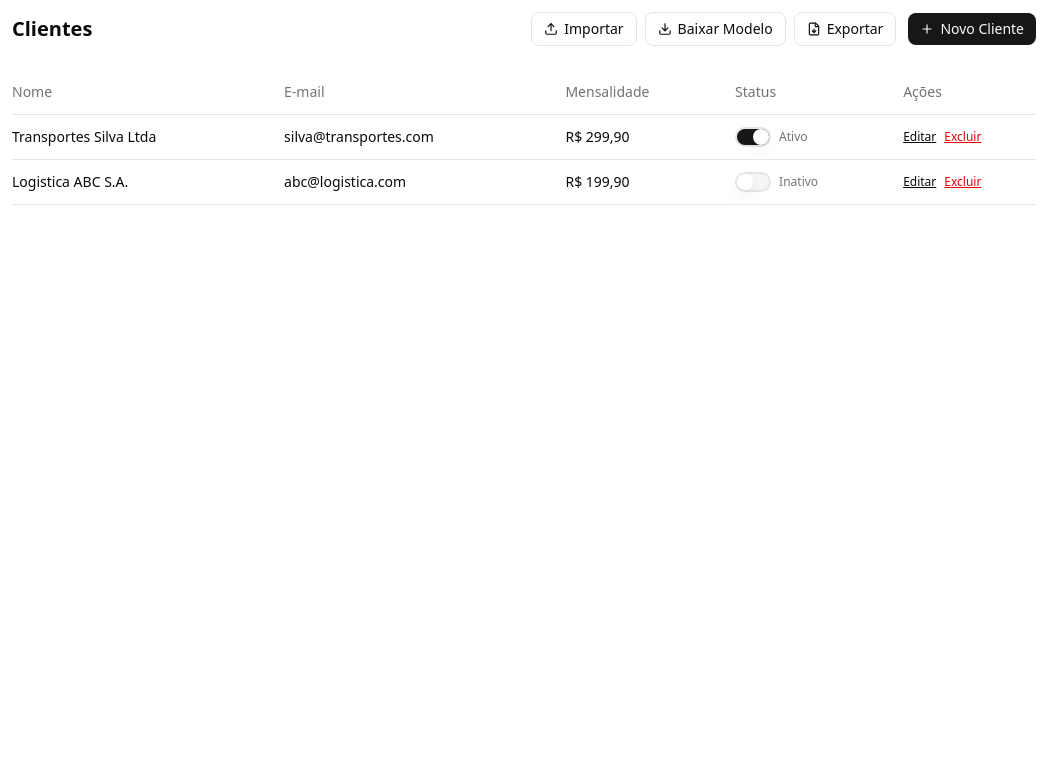
CustomersPage › botão "+ Novo Cliente" abre o formulário
Click the button "Novo Cliente": click(972, 29) [908,13,1036,45]
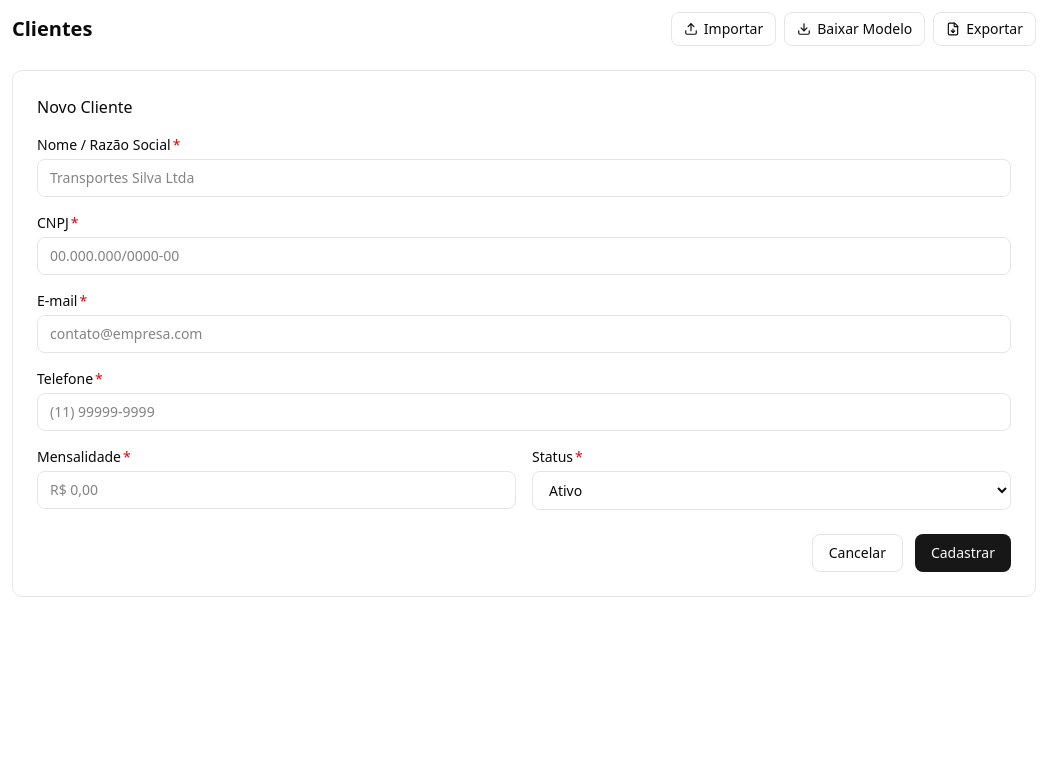
Expected: the button "Cadastrar" is shown, [915,534,1011,572]
